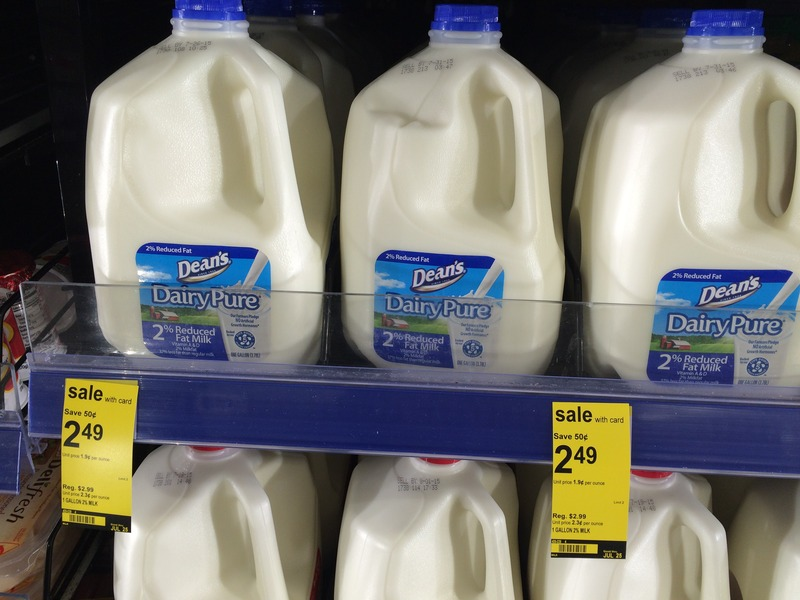milk: (90, 8, 333, 357), (345, 8, 573, 373), (585, 6, 800, 386), (135, 448, 307, 600), (351, 461, 523, 597), (640, 479, 740, 600)
